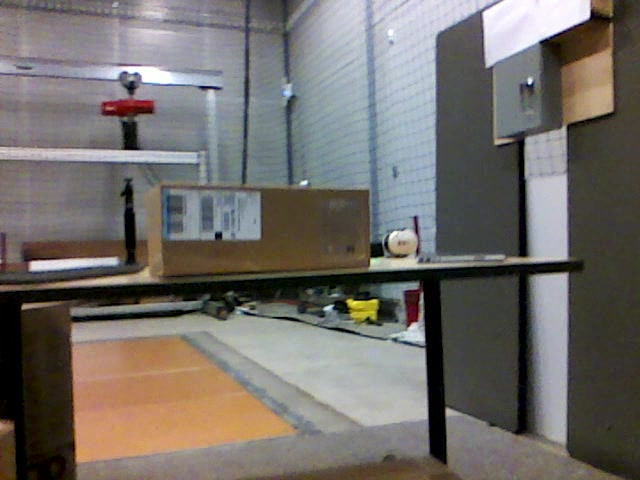box: (144, 183, 370, 271)
